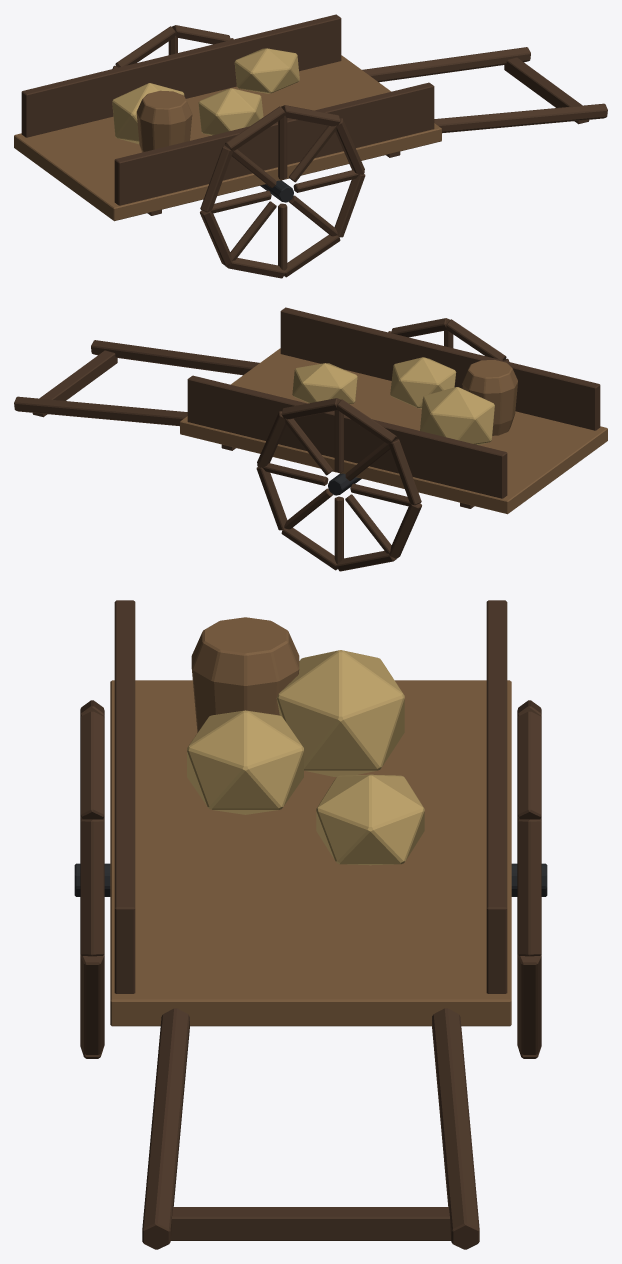
The model's file is V_Charrette.glb.
3 renders of one model, top to bottom at view 1: azimuth 30°, elevation 25°; view 2: azimuth 150°, elevation 25°; view 3: azimuth 270°, elevation 25°, orthographic. The views are drawn at different scales.
Parts seen in each view (by area): view 1: V_Charrette; view 2: V_Charrette; view 3: V_Charrette.
Part boxes in pixels (x1,y1,x2,y2): V_Charrette: (14,14,607,278); V_Charrette: (14,307,607,571); V_Charrette: (74,600,547,1249).
Bounding box in the file's own units: 3.91 × 1.27 × 1.59.
